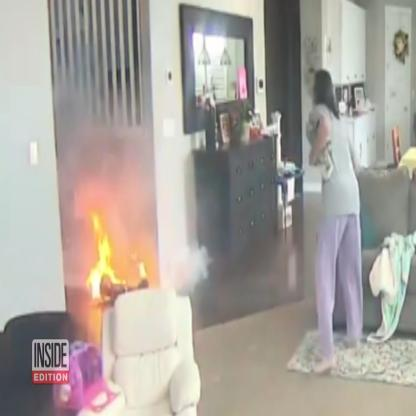fire: (86, 214, 126, 301), (132, 252, 146, 280)
